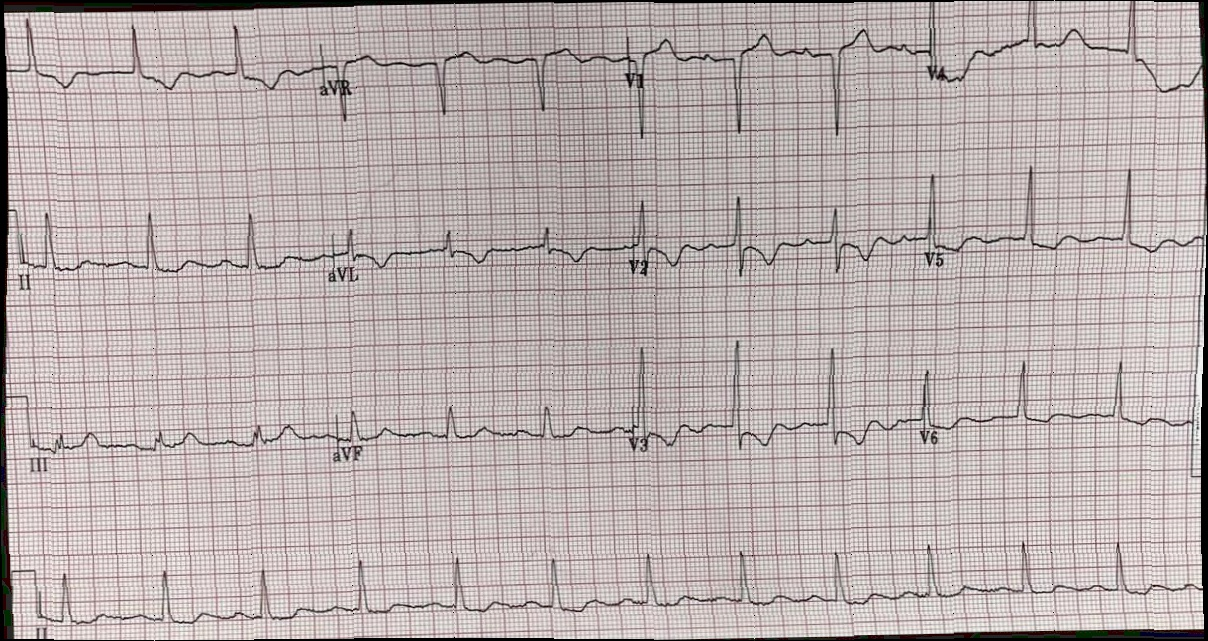Lead_I: (0, 10, 314, 135)
Lead_II: (4, 184, 318, 316)
Lead_III: (17, 383, 333, 488)
Lead_II_ext: (22, 533, 1208, 641)
Lead_V1: (618, 8, 911, 153)
Lead_V2: (625, 165, 915, 305)
Lead_V3: (626, 332, 920, 483)
Lead_V4: (908, 0, 1205, 134)
Lead_V5: (910, 147, 1208, 278)
Lead_V6: (916, 339, 1203, 470)
Lead_aVF: (332, 374, 631, 484)
Lead_aVL: (317, 172, 623, 296)
Lead_aVR: (313, 11, 619, 145)
